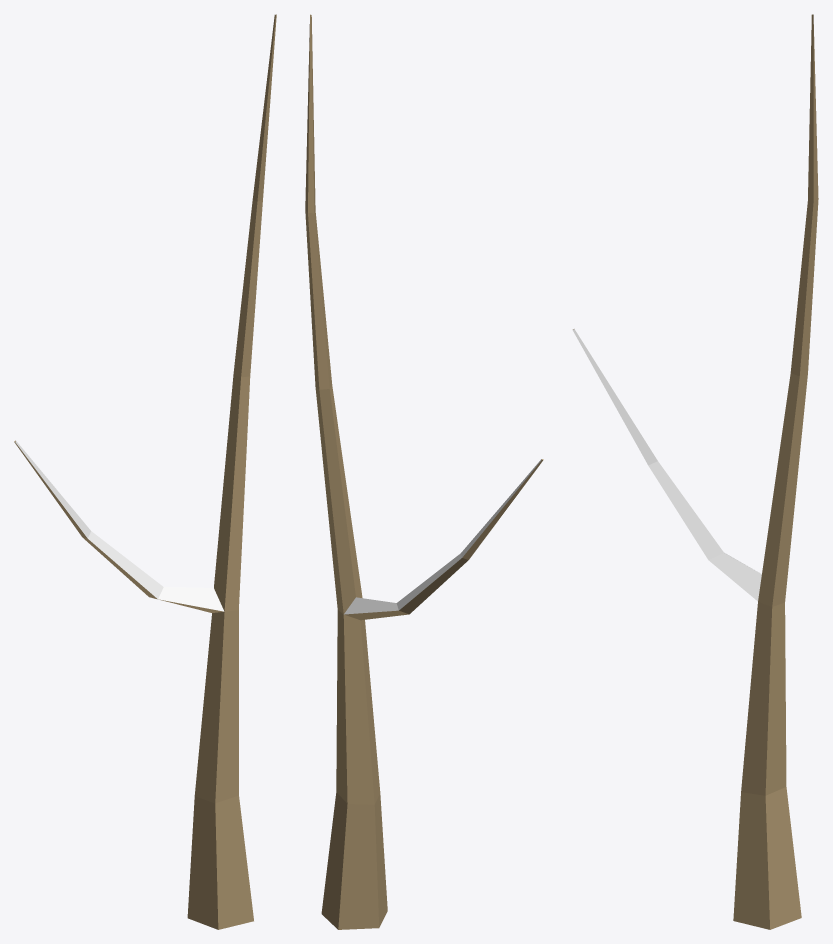
Rendered from Random_Tree_NoLeaves_m_Snow_03.fbx.
The picture shows the model from 3 angles, left to right: view 1: azimuth 30°, elevation 25°; view 2: azimuth 150°, elevation 25°; view 3: azimuth 330°, elevation 25°; orthographic projection. The views are drawn at different scales.
Visible parts, largest first — view 1: Random_Tree_NoLeaves_m_Snow_03; view 2: Random_Tree_NoLeaves_m_Snow_03; view 3: Random_Tree_NoLeaves_m_Snow_03.
Boxes of the visible parts, left/top/right/bottom form: Random_Tree_NoLeaves_m_Snow_03: left=14, top=14, right=276, bottom=929; Random_Tree_NoLeaves_m_Snow_03: left=305, top=14, right=543, bottom=929; Random_Tree_NoLeaves_m_Snow_03: left=572, top=14, right=818, bottom=929.
Size of the model in its own units: 246 by 845 by 54.7.
